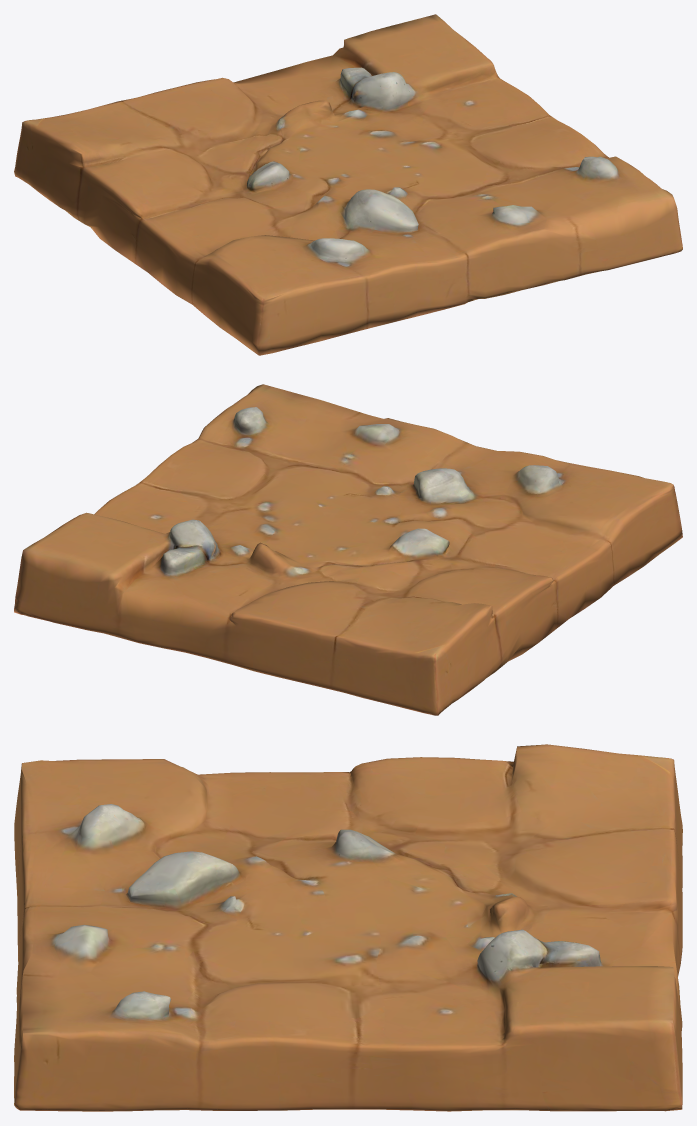
File: gndx_dirt.glb
The picture shows the model from 3 angles, top to bottom: view 1: azimuth 30°, elevation 25°; view 2: azimuth 150°, elevation 25°; view 3: azimuth 270°, elevation 25°; orthographic projection. The views are drawn at different scales.
Parts seen in each view (by area): view 1: Dirt; view 2: Dirt; view 3: Dirt.
Boxes of the visible parts, x1,y1,x2,y2 form: Dirt: (14, 14, 682, 355); Dirt: (14, 384, 682, 715); Dirt: (14, 744, 682, 1111).
Size of the model in its own units: 2 by 0.34 by 2.
Materials: 1 (1 with a texture image).
